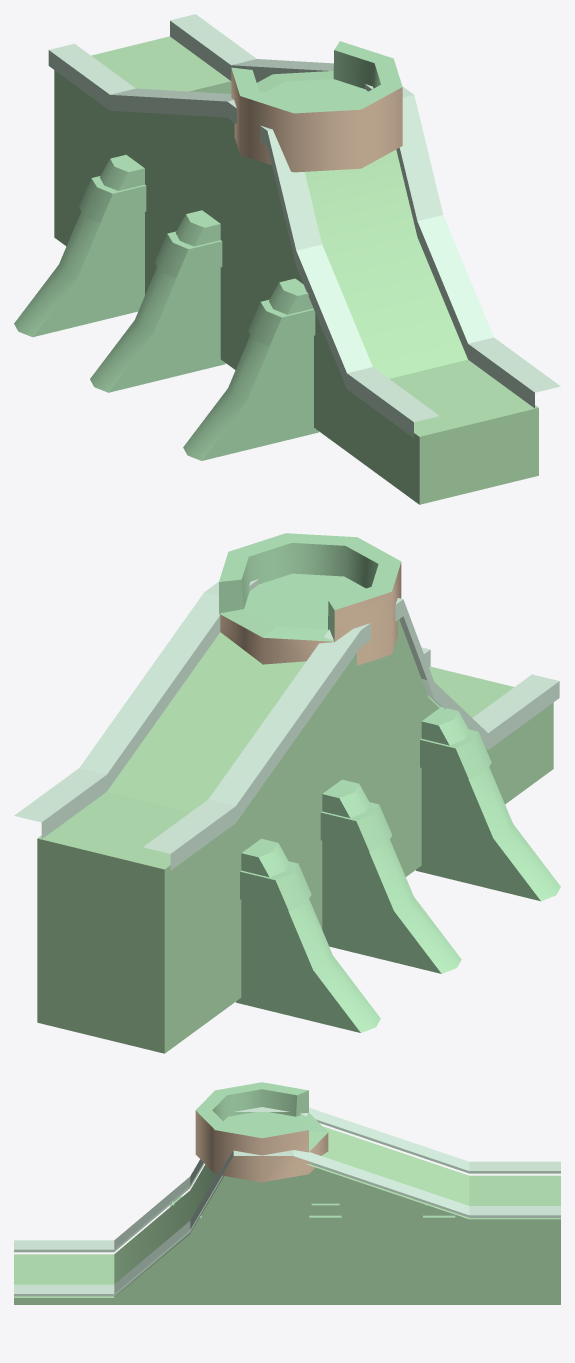
The picture shows the model from 3 angles, top to bottom: view 1: azimuth 30°, elevation 25°; view 2: azimuth 150°, elevation 25°; view 3: azimuth 270°, elevation 25°; orthographic projection. The views are drawn at different scales.
Visible parts, largest first — view 1: Object67; view 2: Object67; view 3: Object67.
Boxes of the visible parts, x1,y1,x2,y2 form: Object67: (14,14,560,504); Object67: (14,533,560,1053); Object67: (14,1082,560,1304).
Size of the model in its own units: 262 by 288 by 641.
